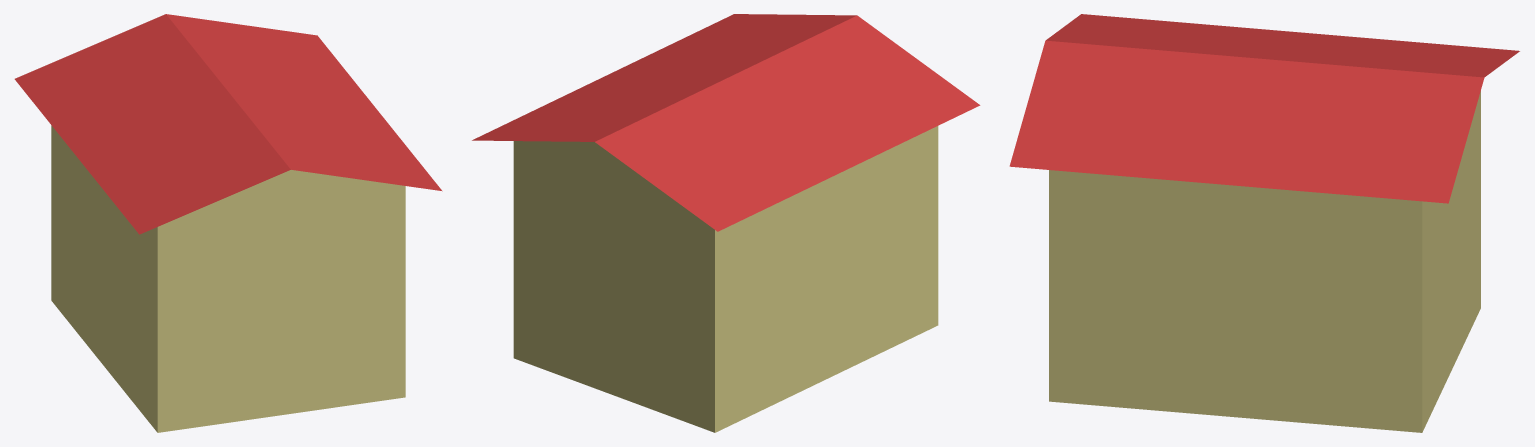
3 views of the same model, side by side, from view 1: azimuth 30°, elevation 25°; view 2: azimuth 150°, elevation 25°; view 3: azimuth 270°, elevation 25° (orthographic). The views are drawn at different scales.
Parts seen in each view (by area): view 1: group_5, group_3; view 2: group_5, group_3; view 3: group_5, group_3.
Part boxes in pixels (x1=…): group_5: x1=51, y1=125, x2=405, y2=432; group_3: x1=14, y1=14, x2=442, y2=234; group_5: x1=513, y1=126, x2=938, y2=432; group_3: x1=472, y1=14, x2=980, y2=231; group_5: x1=1049, y1=91, x2=1480, y2=432; group_3: x1=1009, y1=14, x2=1519, y2=203.
Bounding box in the file's own units: 10.03 × 11.42 × 7.29.
